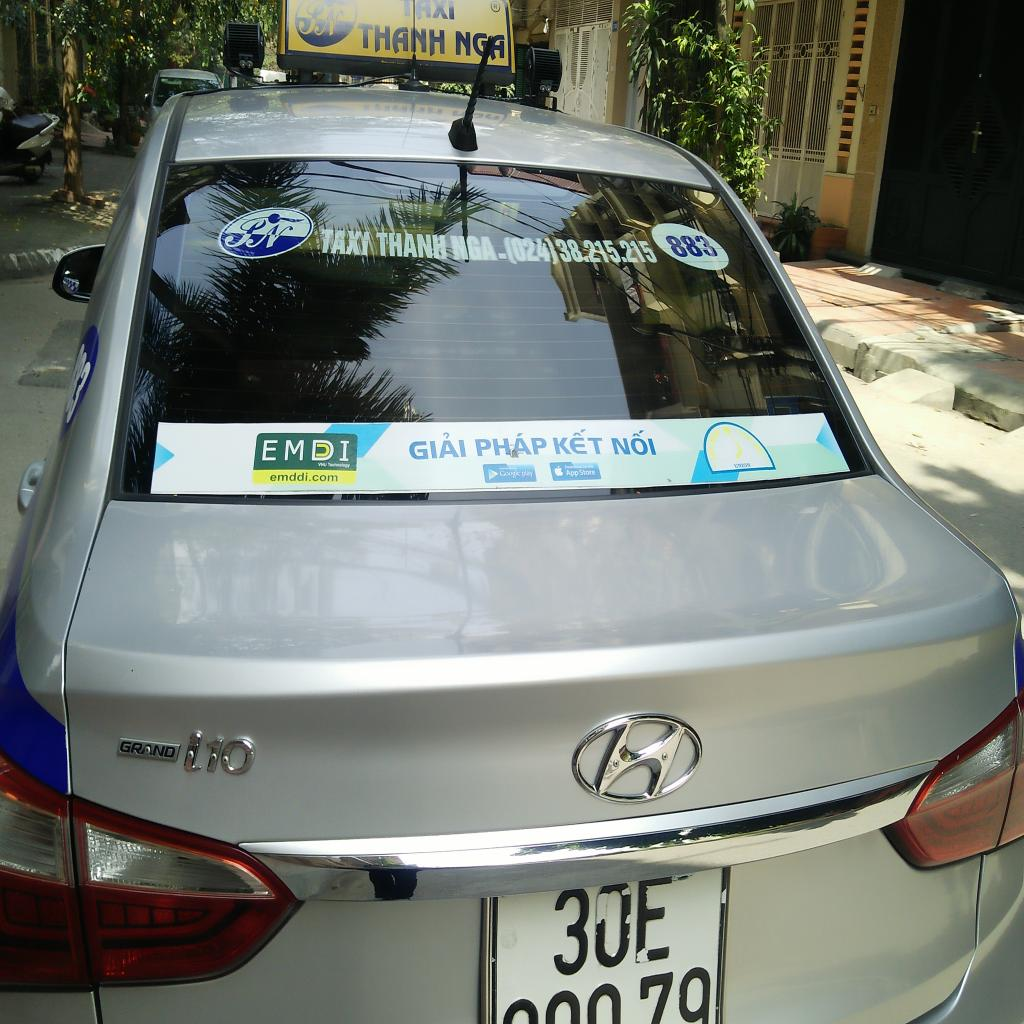text: (552, 877, 673, 979), (502, 236, 660, 266), (181, 728, 258, 776), (220, 210, 312, 250), (355, 22, 445, 59), (261, 439, 351, 463), (376, 231, 447, 260), (296, 1, 353, 37), (65, 357, 93, 427), (474, 432, 548, 457), (408, 432, 467, 461), (455, 30, 506, 63), (449, 234, 508, 262), (551, 429, 606, 456), (319, 228, 370, 256), (663, 235, 721, 258), (609, 430, 657, 456), (118, 740, 176, 759), (415, 0, 455, 24), (270, 472, 338, 482), (499, 470, 521, 479), (328, 462, 352, 469), (565, 470, 580, 478), (579, 469, 596, 476), (520, 470, 534, 478), (734, 462, 752, 468), (318, 462, 328, 468), (564, 465, 573, 470)
